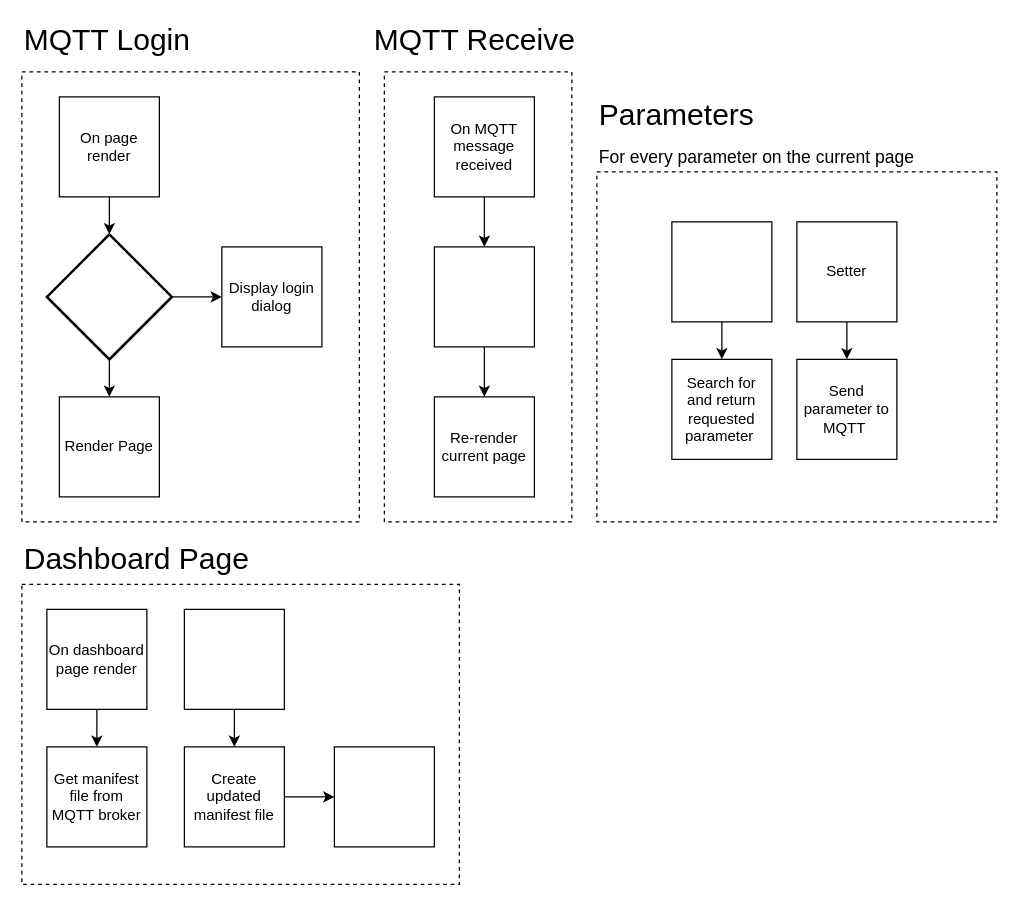
The diagram is 1031 pixels wide and 906 high, and some of its shapes have lost their labels. The shapes that lost their labels are listed below. From the top down, each one's centre as x and y in pixels, then its label:
(x=721, y=271): Getter
(x=108, y=296): Is MQTT connected?
(x=483, y=296): Store in key value pair dataset
(x=233, y=658): When base station or device name changed
(x=383, y=796): Send manifest file to MQTT
